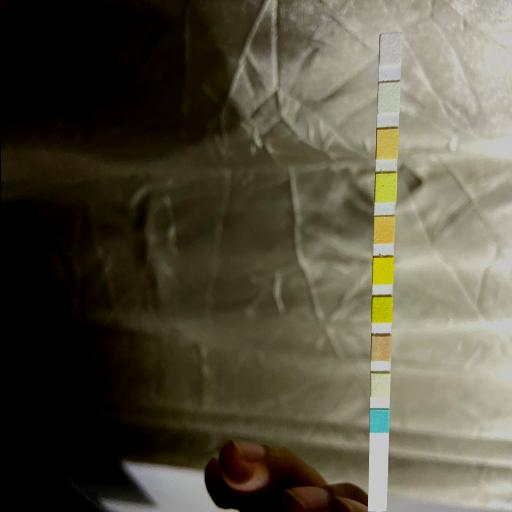Bilirubin: (370, 373, 388, 398)
Blood: (372, 258, 392, 284)
Glucose: (370, 410, 388, 434)
Ketone: (370, 336, 390, 362)
Leukocytes: (379, 34, 401, 64)
Nitrite: (378, 83, 398, 113)
Protein: (374, 174, 396, 202)
SpGravity: (371, 297, 391, 323)
Urobilinogen: (376, 130, 397, 158)
pH: (373, 217, 393, 243)
strip: (366, 33, 401, 512)
